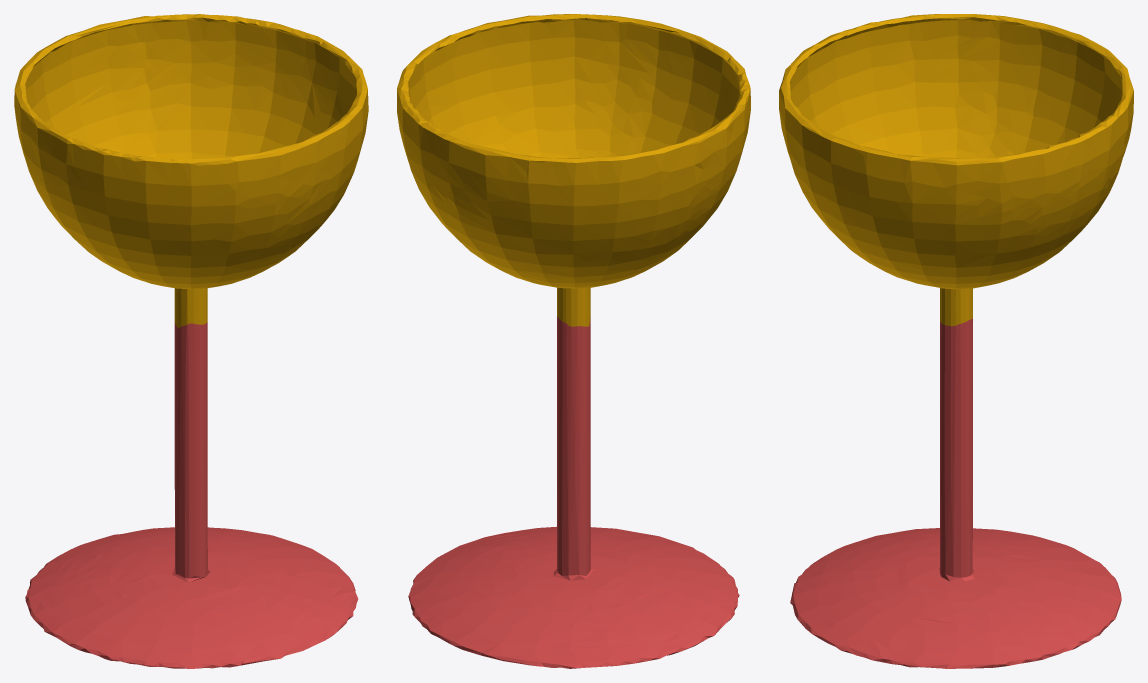
The model's file is mode_1_2pcs.glb.
The picture shows the model from 3 angles, left to right: view 1: azimuth 30°, elevation 25°; view 2: azimuth 150°, elevation 25°; view 3: azimuth 270°, elevation 25°; orthographic projection.
Parts seen in each view (by area): view 1: piece_0.obj, piece_1.obj; view 2: piece_0.obj, piece_1.obj; view 3: piece_0.obj, piece_1.obj.
Part boxes in pixels (x1,y1,x2,y2): piece_0.obj: [14, 14, 368, 328]; piece_1.obj: [25, 321, 358, 668]; piece_0.obj: [397, 14, 750, 326]; piece_1.obj: [408, 316, 739, 668]; piece_0.obj: [779, 14, 1133, 326]; piece_1.obj: [790, 318, 1121, 668].
Bounding box in the file's own units: 0.6244 × 1 × 0.6242.
